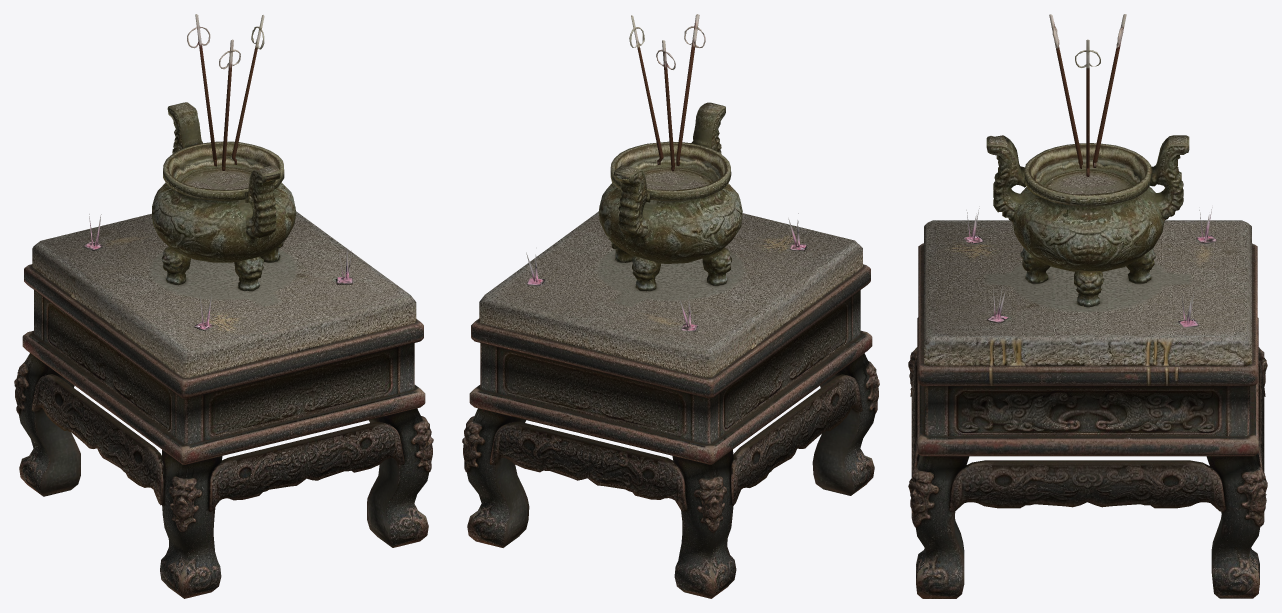
The model's file is tripo_convert_c836b6c0-4b32-4fd1-af5b-42b4c5c3fa92.fbx.
3 views of the same model, side by side, from view 1: azimuth 30°, elevation 25°; view 2: azimuth 150°, elevation 25°; view 3: azimuth 270°, elevation 25° (orthographic). The views are drawn at different scales.
Visible parts, largest first — view 1: tripo_node_c836b6c0; view 2: tripo_node_c836b6c0; view 3: tripo_node_c836b6c0.
Boxes of the visible parts, x1,y1,x2,y2 form: tripo_node_c836b6c0: [14, 14, 433, 598]; tripo_node_c836b6c0: [462, 14, 879, 598]; tripo_node_c836b6c0: [908, 14, 1267, 598].
Bounding box in the file's own units: 0.5527 × 0.998 × 0.627.
Materials: 1 (1 with a texture image).
